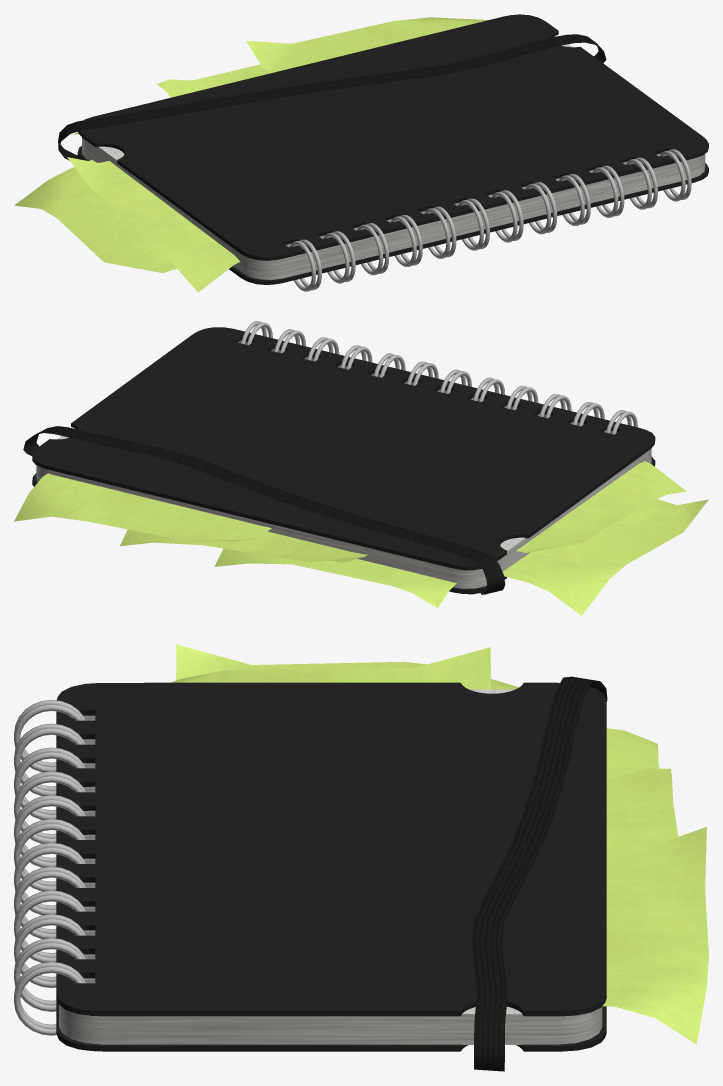
File: DeathNote.fbx
3 views of the same model, one above another, from view 1: azimuth 30°, elevation 25°; view 2: azimuth 150°, elevation 25°; view 3: azimuth 270°, elevation 25° (orthographic). The views are drawn at different scales.
Visible parts, largest first — view 1: Cube.002; view 2: Cube.002; view 3: Cube.002.
Boxes of the visible parts, x1,y1,x2,y2 form: Cube.002: (14, 14, 708, 292); Cube.002: (14, 321, 708, 615); Cube.002: (14, 644, 708, 1071).
Size of the model in its own units: 19.01 by 1.69 by 13.54.
Materials: 1 (1 with a texture image).
